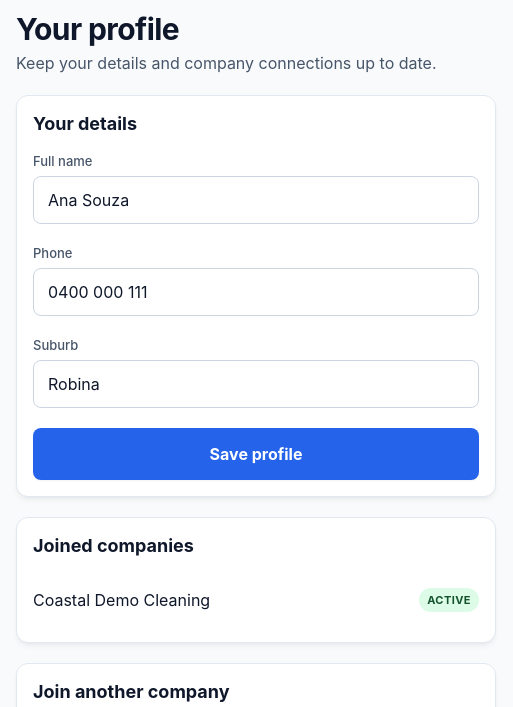
Scenario: CLE-26 cleaner profile › saves trimmed profile details through the own-row RPC
This screenshot has width=513, height=707.
Replace the text in the field labelled "Full name" with "  Ana Profile  " at point(256, 200), box [33, 176, 479, 224]
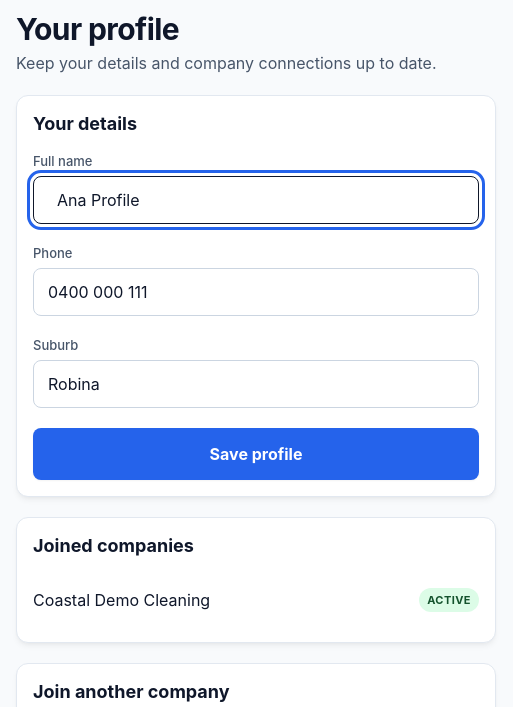
Click the button "Save profile".
click(256, 454)  # box [33, 428, 479, 480]
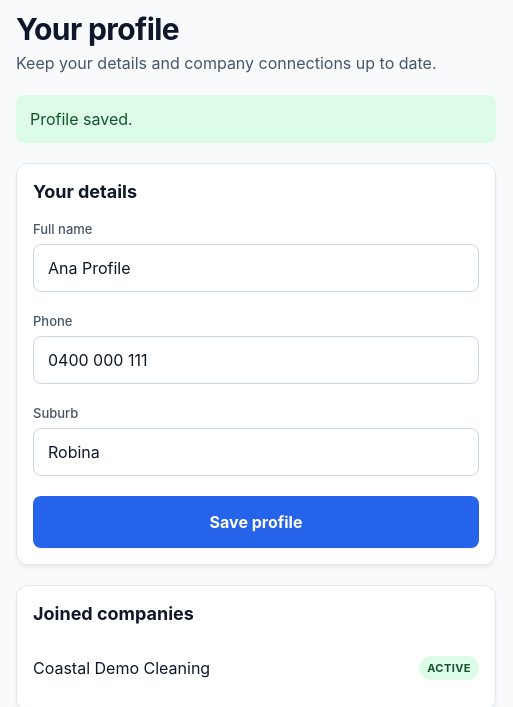
Check: the message shows "Profile saved", box [30, 109, 133, 129]
